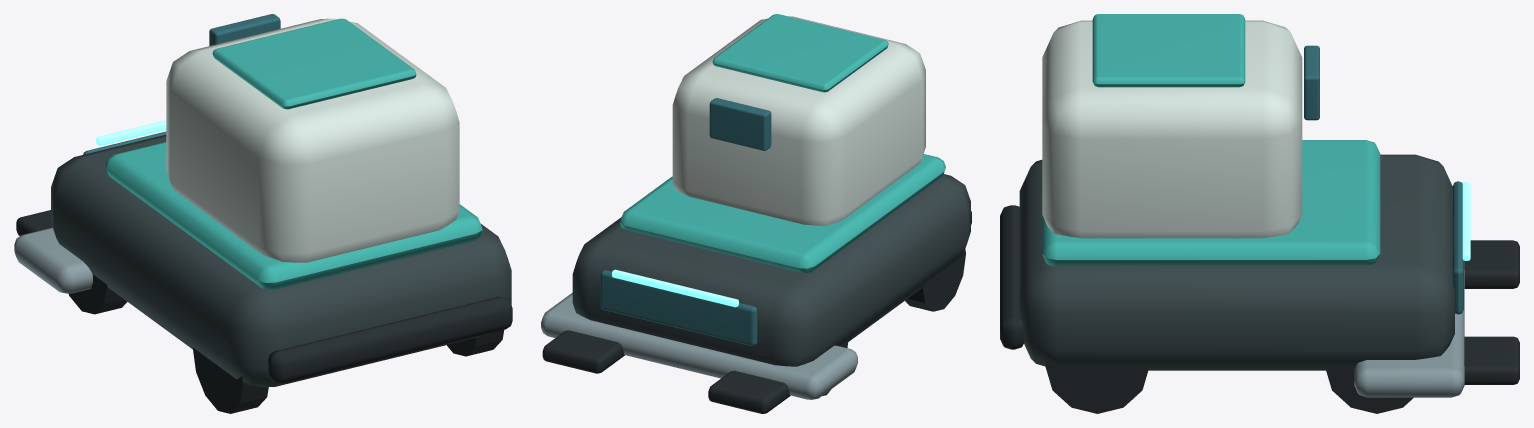
The model's file is cleaning-robot.glb.
3 views of the same model, side by side, from view 1: azimuth 30°, elevation 25°; view 2: azimuth 150°, elevation 25°; view 3: azimuth 270°, elevation 25° (orthographic). The views are drawn at different scales.
Visible parts, largest first — view 1: cleaning tank, low chassis, top cover, service hatch, rear bumper, scrubber head, drive wheel, water sensor, drive wheel.001, drive wheel.002, front LED bar, front brush; view 2: cleaning tank, low chassis, top cover, service hatch, scrubber head, front LIDAR glass, water sensor, front brush.001, front brush, drive wheel, front LED bar; view 3: low chassis, cleaning tank, top cover, service hatch, scrubber head, drive wheel.002, rear bumper, front brush.001, front brush, drive wheel.003, front LIDAR glass, water sensor (+1 smaller).
Boxes of the visible parts, <box> form: cleaning tank: <box>166,18,459,262</box>; low chassis: <box>51,134,511,386</box>; top cover: <box>105,142,482,289</box>; service hatch: <box>212,18,416,109</box>; rear bumper: <box>268,296,512,383</box>; scrubber head: <box>14,227,92,293</box>; drive wheel: <box>192,347,268,413</box>; water sensor: <box>209,14,280,45</box>; drive wheel.001: <box>68,274,127,314</box>; drive wheel.002: <box>447,330,504,356</box>; front LED bar: <box>96,120,166,145</box>; front brush: <box>16,210,52,235</box>; cleaning tank: <box>672,16,925,225</box>; low chassis: <box>572,174,970,366</box>; top cover: <box>619,154,945,272</box>; service hatch: <box>712,14,888,92</box>; scrubber head: <box>541,293,857,399</box>; front LIDAR glass: <box>600,270,757,345</box>; water sensor: <box>709,98,771,150</box>; front brush.001: <box>542,330,624,373</box>; front brush: <box>708,370,790,413</box>; drive wheel: <box>905,249,965,311</box>; front LED bar: <box>612,269,738,307</box>; low chassis: <box>1019,154,1454,370</box>; cleaning tank: <box>1042,20,1302,238</box>; top cover: <box>1042,140,1380,266</box>; service hatch: <box>1092,14,1245,87</box>; scrubber head: <box>1354,261,1464,397</box>; drive wheel.002: <box>1045,360,1148,413</box>; rear bumper: <box>1000,205,1024,349</box>; front brush.001: <box>1464,336,1519,384</box>; front brush: <box>1464,240,1519,288</box>; drive wheel.003: <box>1325,367,1413,413</box>; front LIDAR glass: <box>1452,181,1463,314</box>; water sensor: <box>1304,45,1319,120</box>.
Bounding box in the file's own units: 1.18 × 1.03 × 1.6.
